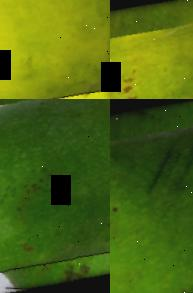PartiallyRipe: (0, 0, 110, 99), (110, 0, 193, 99)
Unripe: (0, 99, 110, 293), (110, 99, 193, 293)
